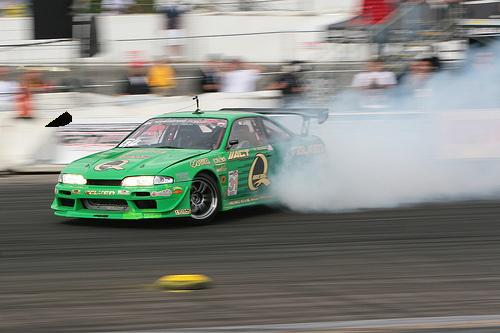tampered: (18, 67, 72, 127)
